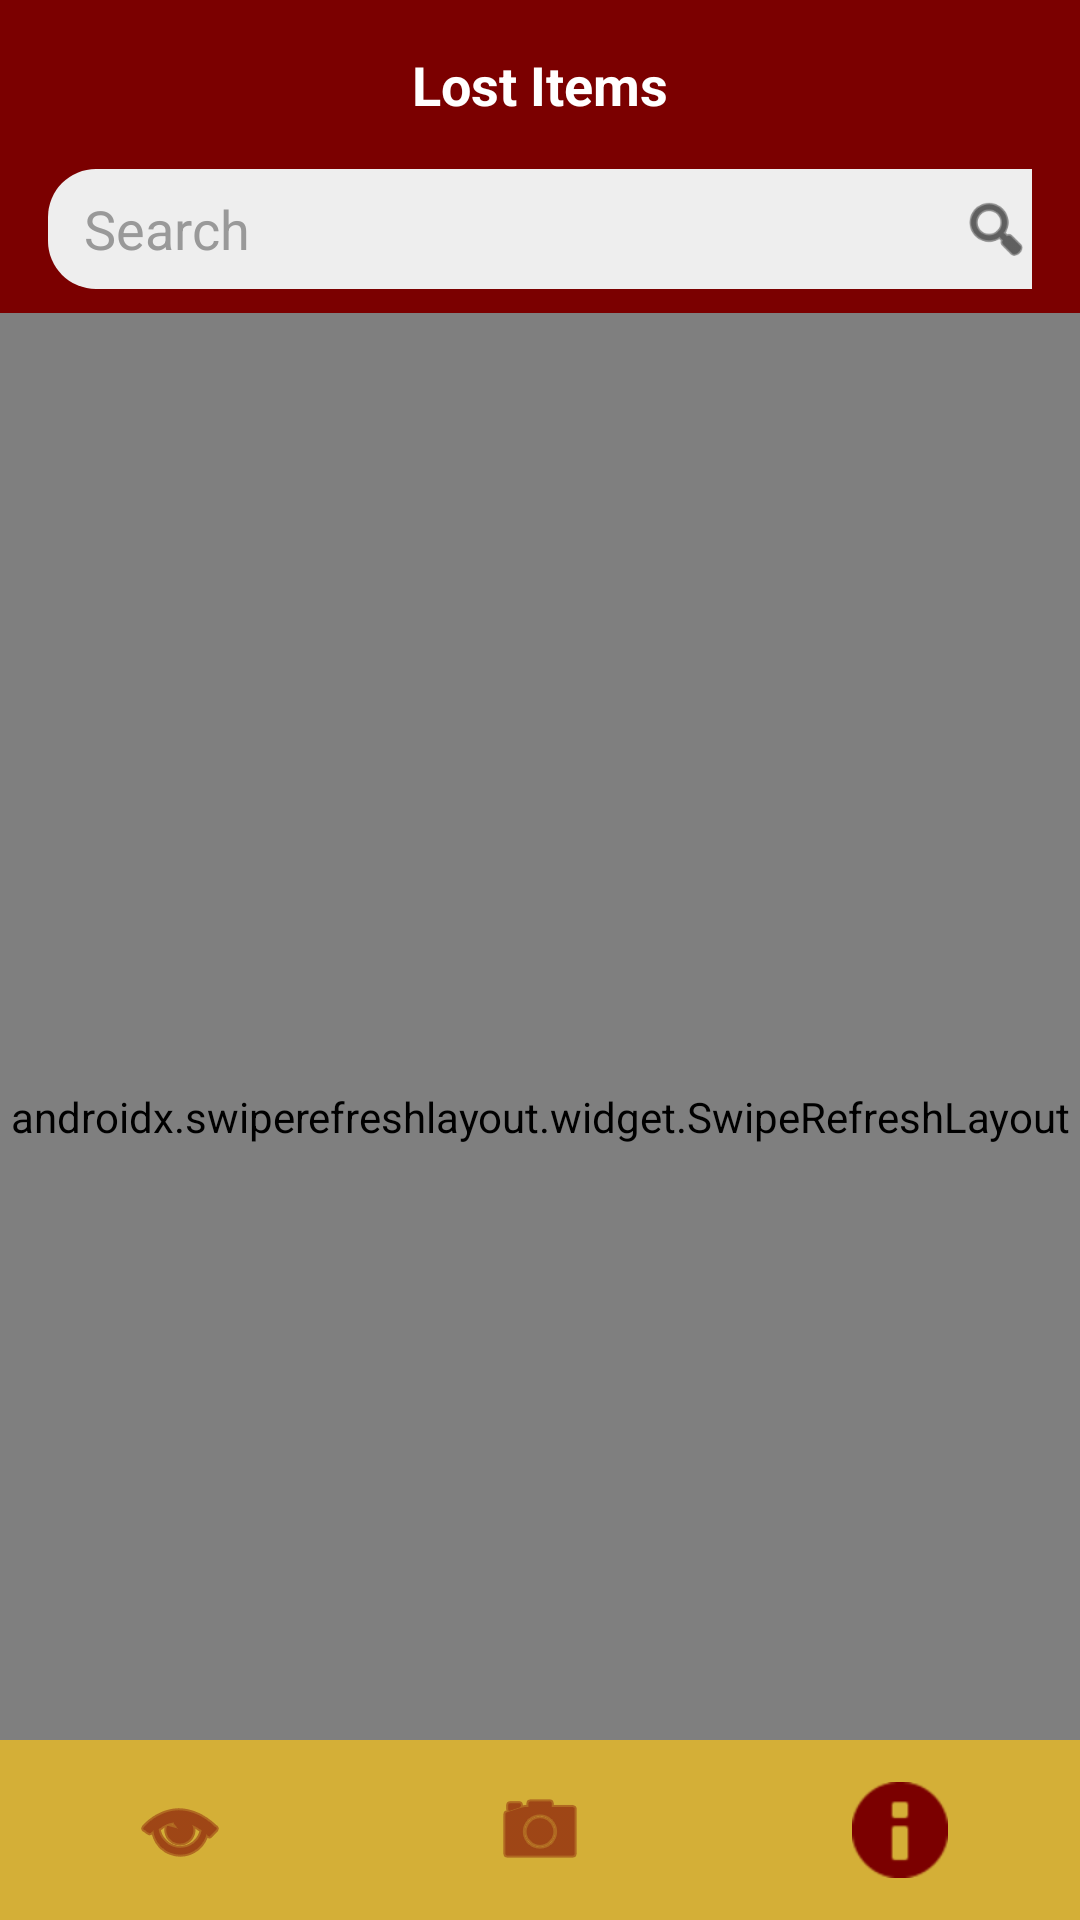

Icons on this 1080px x 1920px Android screen, each with its box as (x1, y1, x2, y2):
Camera: (503, 1799, 577, 1858)
